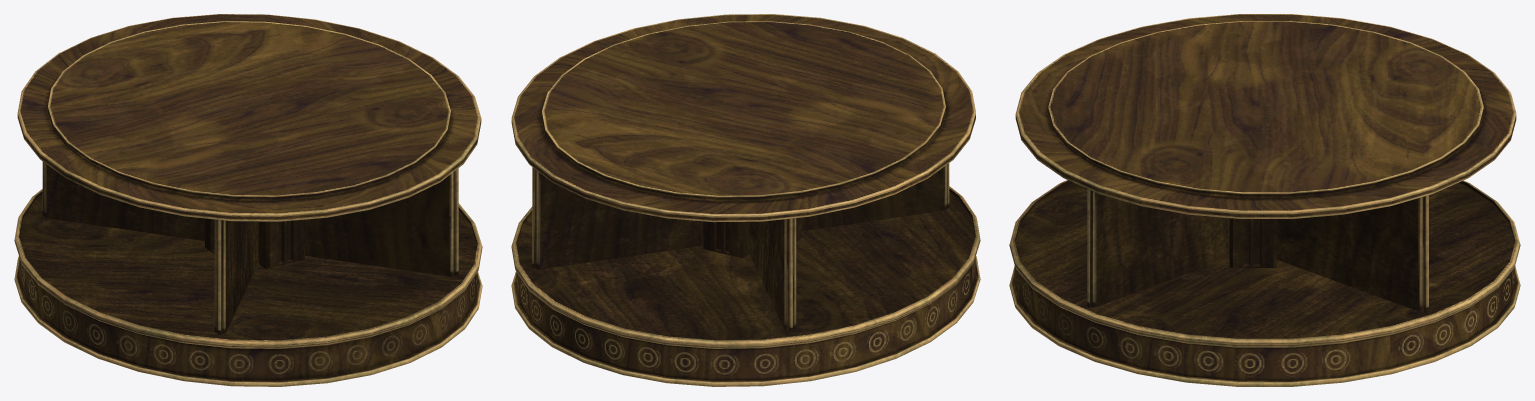
The model's file is SM_FoodStand_1S.fbx.
The picture shows the model from 3 angles, left to right: view 1: azimuth 30°, elevation 25°; view 2: azimuth 150°, elevation 25°; view 3: azimuth 270°, elevation 25°; orthographic projection. The views are drawn at different scales.
Visible parts, largest first — view 1: SM_FoodStand_1S_LOD0; view 2: SM_FoodStand_1S_LOD0; view 3: SM_FoodStand_1S_LOD0.
Part boxes in pixels (bbox=[...]): SM_FoodStand_1S_LOD0: bbox=[14, 14, 482, 386]; SM_FoodStand_1S_LOD0: bbox=[511, 14, 980, 386]; SM_FoodStand_1S_LOD0: bbox=[1009, 14, 1520, 386].
Bounding box in the file's own units: 51.49 × 55.71 × 21.97.
Materials: 1 (1 with a texture image).
